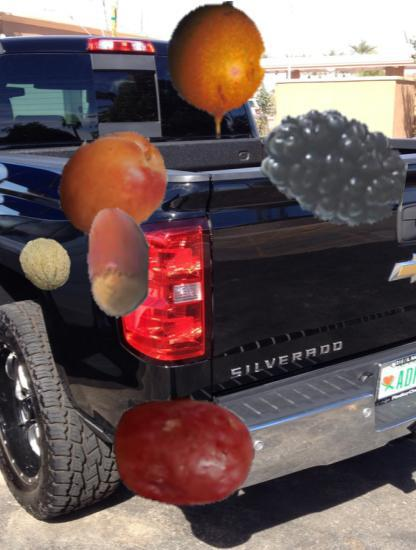Apricot: (54, 125, 172, 243)
Cantaloupe: (18, 236, 74, 292)
Granadilla: (148, 1, 286, 139)
Grape: (112, 379, 257, 524)
Hazelnut: (62, 207, 175, 320)
Mulberry: (258, 92, 408, 242)
